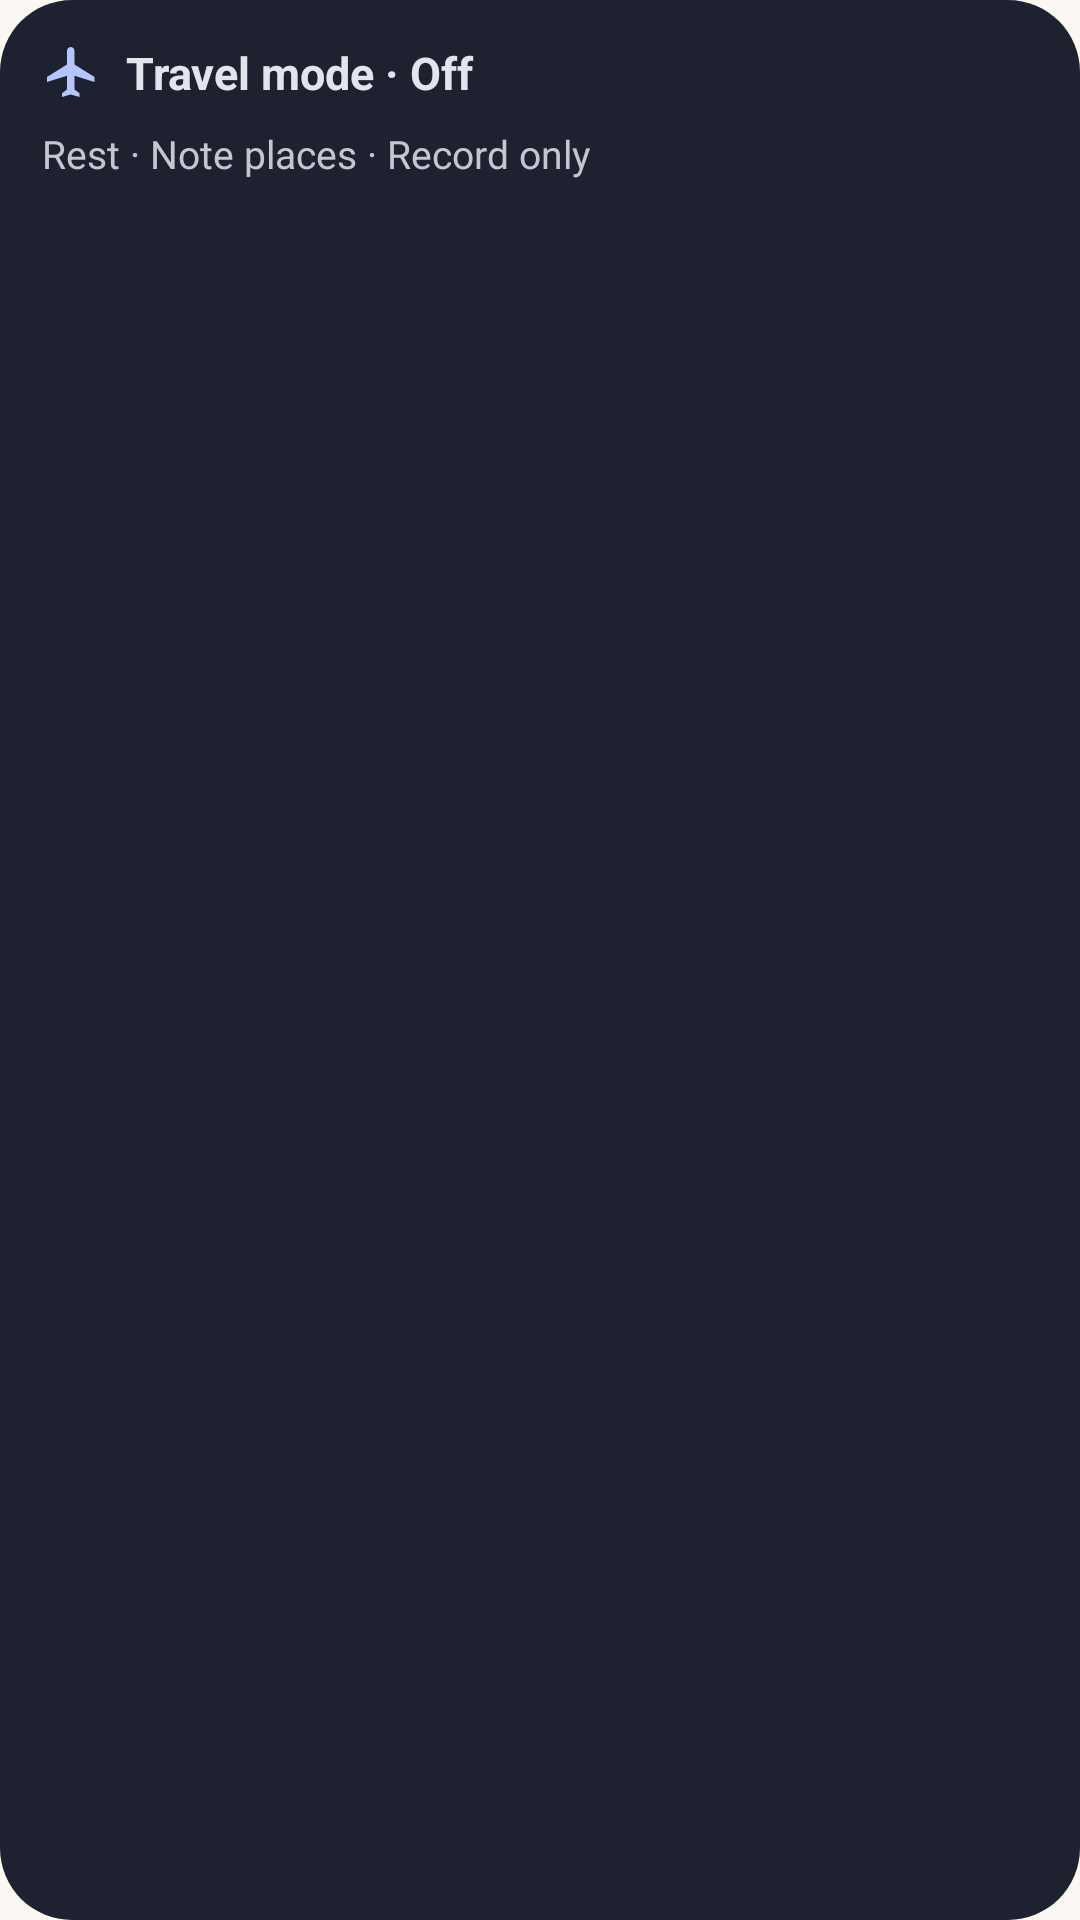

Named icons in this screenshot (1080 × 1920) and their bounding boxes, (x1, y1, x2, y2):
flight: (47, 47, 95, 97)
